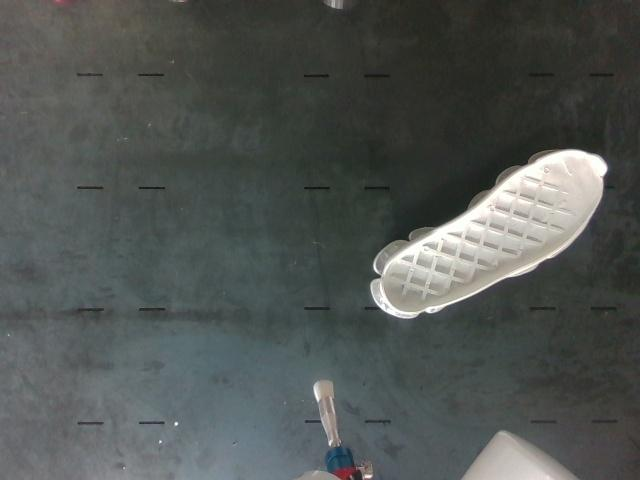shoes: (383, 151, 605, 313)
